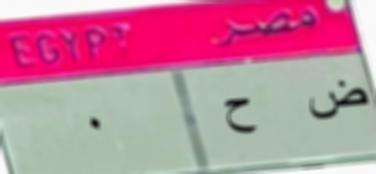0: (79, 110, 112, 135)
7aa: (224, 90, 262, 144)
daad: (304, 78, 368, 124)
